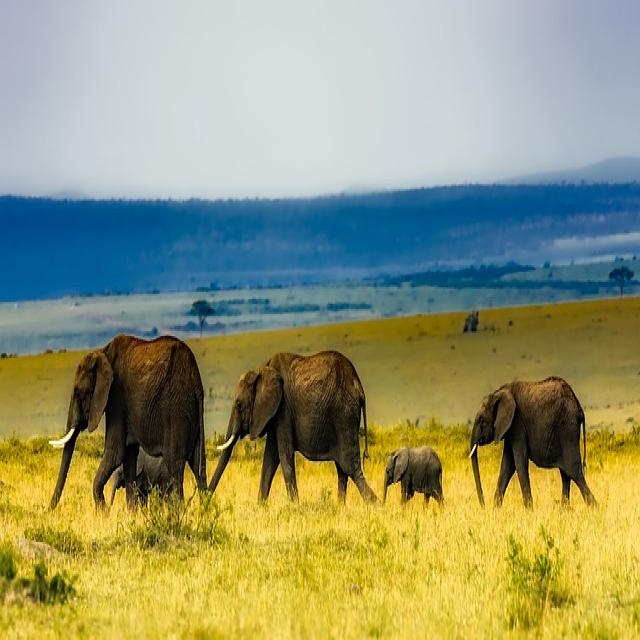elephant: (50, 334, 206, 509), (209, 350, 376, 501), (470, 378, 596, 506), (384, 445, 442, 502)
